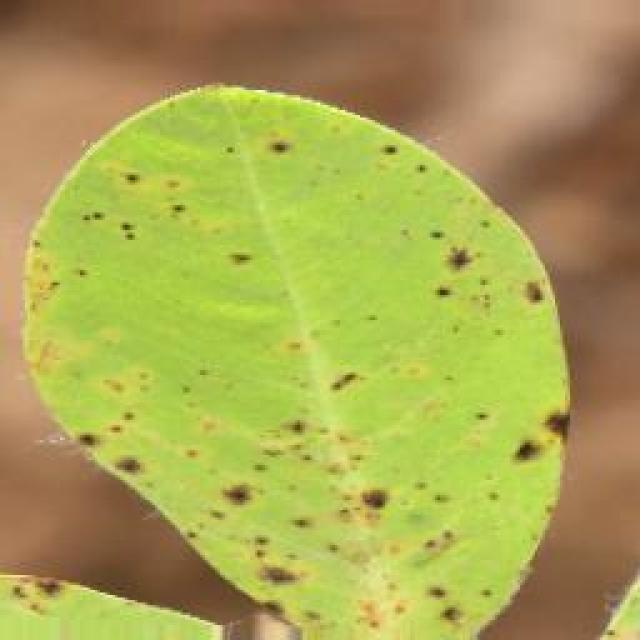Yellowish: (88, 95, 583, 636)
